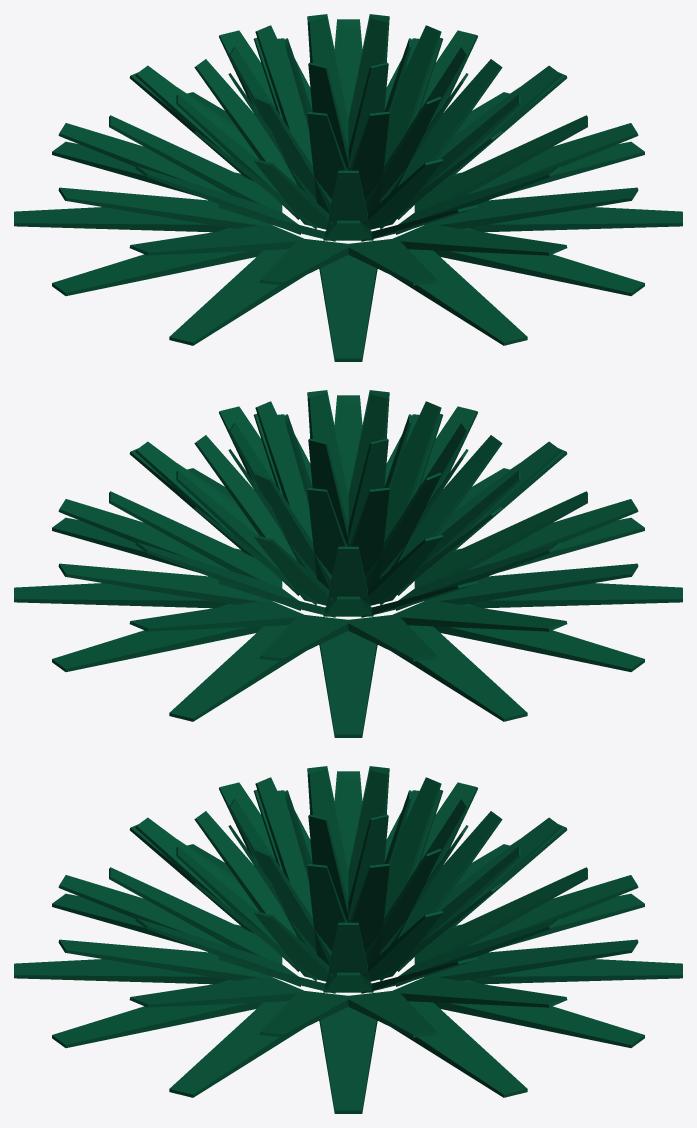
Rendered from Plant1.fbx.
The picture shows the model from 3 angles, top to bottom: view 1: azimuth 30°, elevation 25°; view 2: azimuth 150°, elevation 25°; view 3: azimuth 270°, elevation 25°; orthographic projection.
Visible parts, largest first — view 1: Plant1; view 2: Plant1; view 3: Plant1.
Part boxes in pixels (box(x1,y1,x2,y2)): Plant1: box(14, 14, 682, 361); Plant1: box(14, 390, 682, 737); Plant1: box(14, 766, 682, 1113).
Size of the model in its own units: 29.26 by 8.59 by 29.26.
